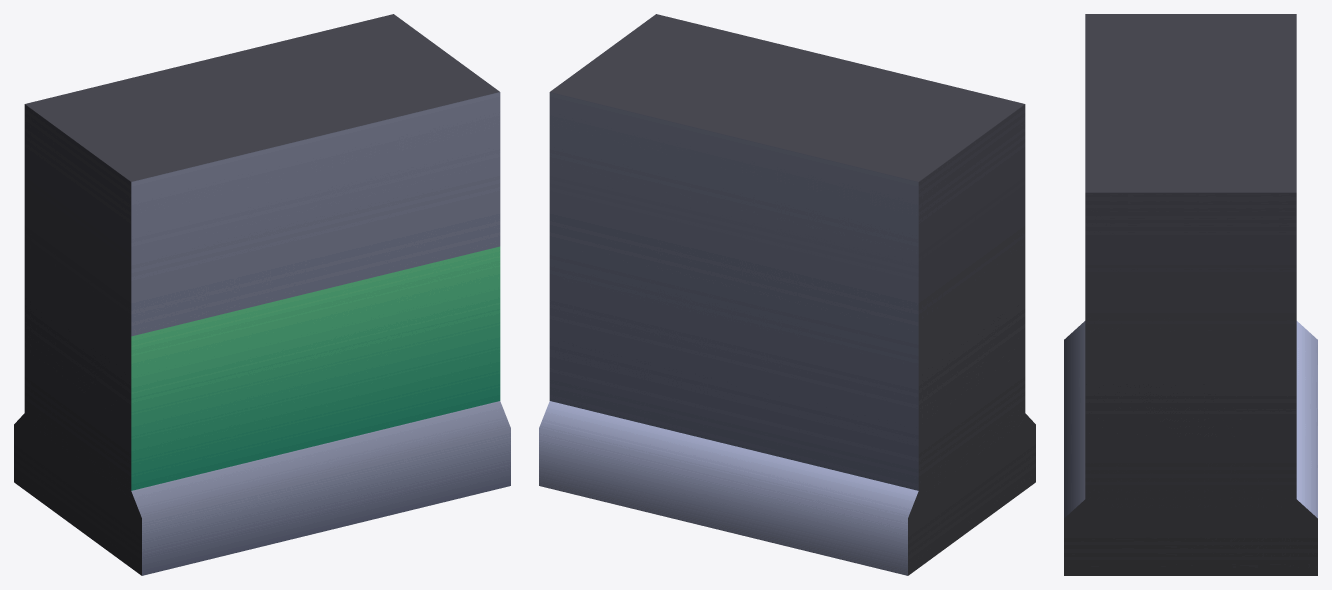
Rendered from wall.glb.
The picture shows the model from 3 angles, left to right: view 1: azimuth 30°, elevation 25°; view 2: azimuth 150°, elevation 25°; view 3: azimuth 270°, elevation 25°; orthographic projection.
Parts seen in each view (by area): view 1: wall; view 2: wall; view 3: wall.
Boxes of the visible parts, x1,y1,x2,y2 form: wall: (14,14,510,575); wall: (539,14,1035,575); wall: (1064,14,1317,575).
Bounding box in the file's own units: 1 × 1 × 0.6.
1 material, 1 textured.
